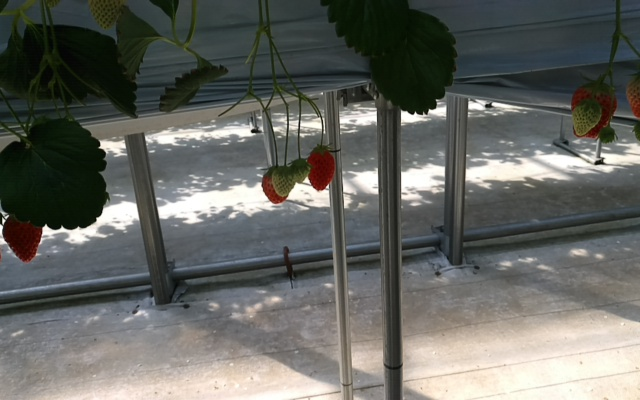GreenStrawberry: (89, 1, 125, 32), (572, 100, 600, 136), (272, 165, 296, 197), (291, 160, 310, 184)
MatureStrawberry: (571, 78, 619, 141), (2, 207, 44, 264), (306, 146, 335, 193), (261, 169, 289, 204)
